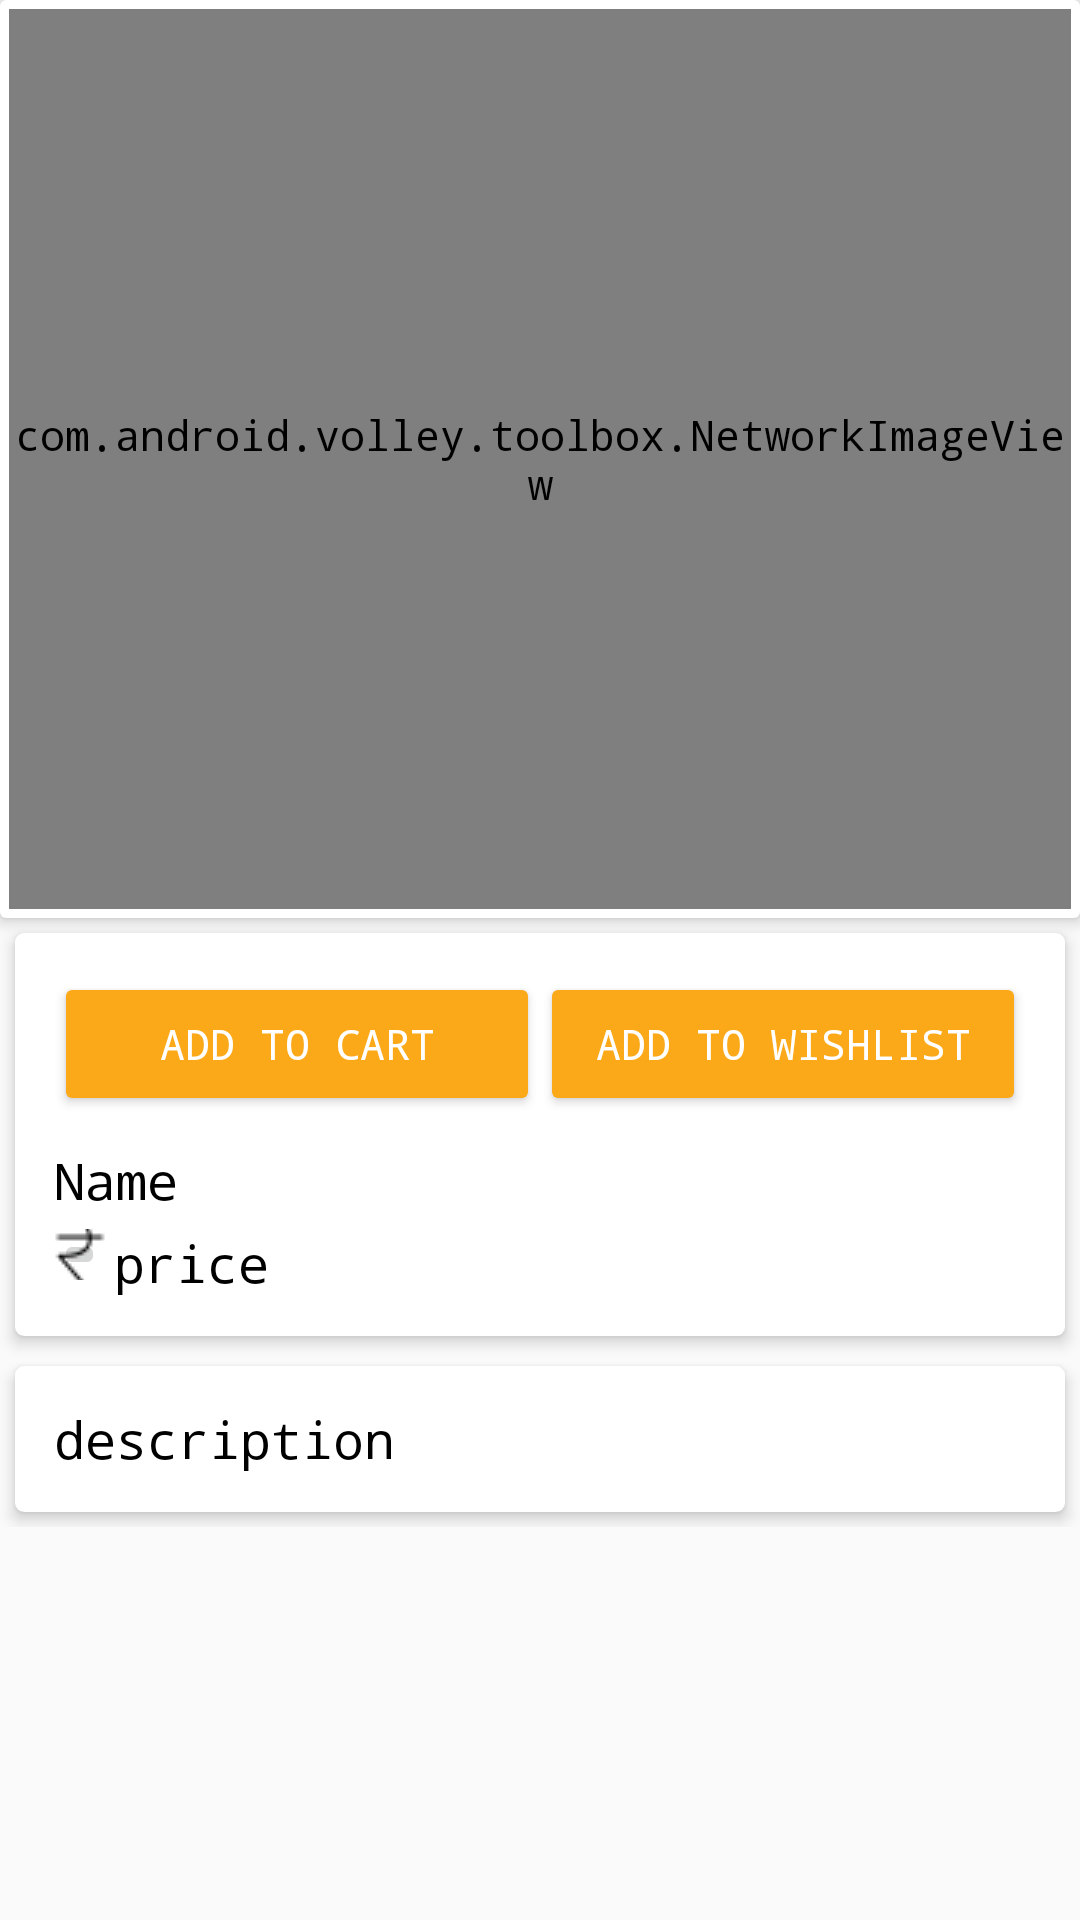

Icons on this 1080px×1920px Android screen, each with its box as (x1, y1, x2, y2):
inr: (55, 1229, 105, 1280)
